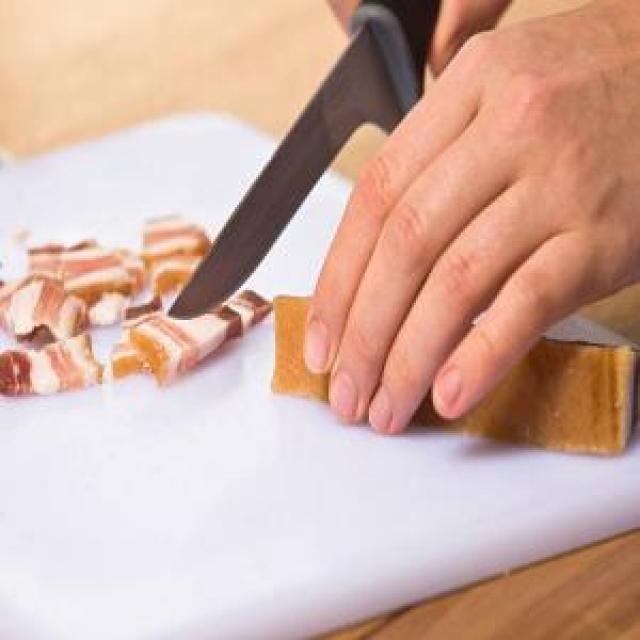knife: (166, 0, 439, 358)
